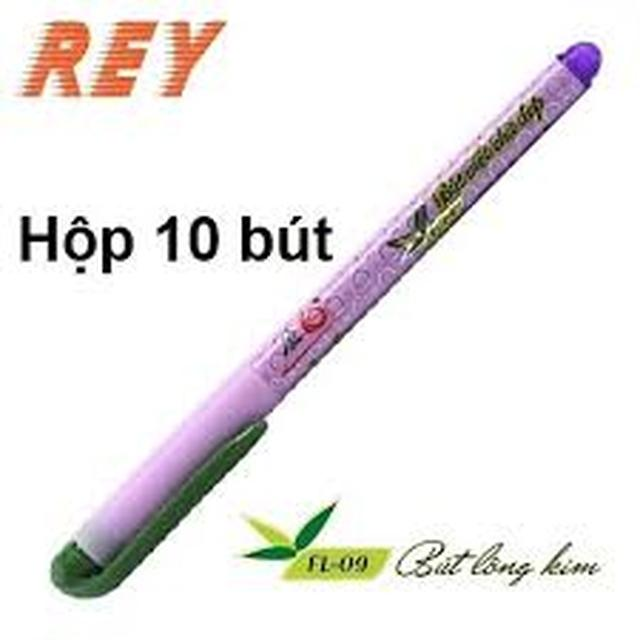pen: (35, 76, 527, 618)
